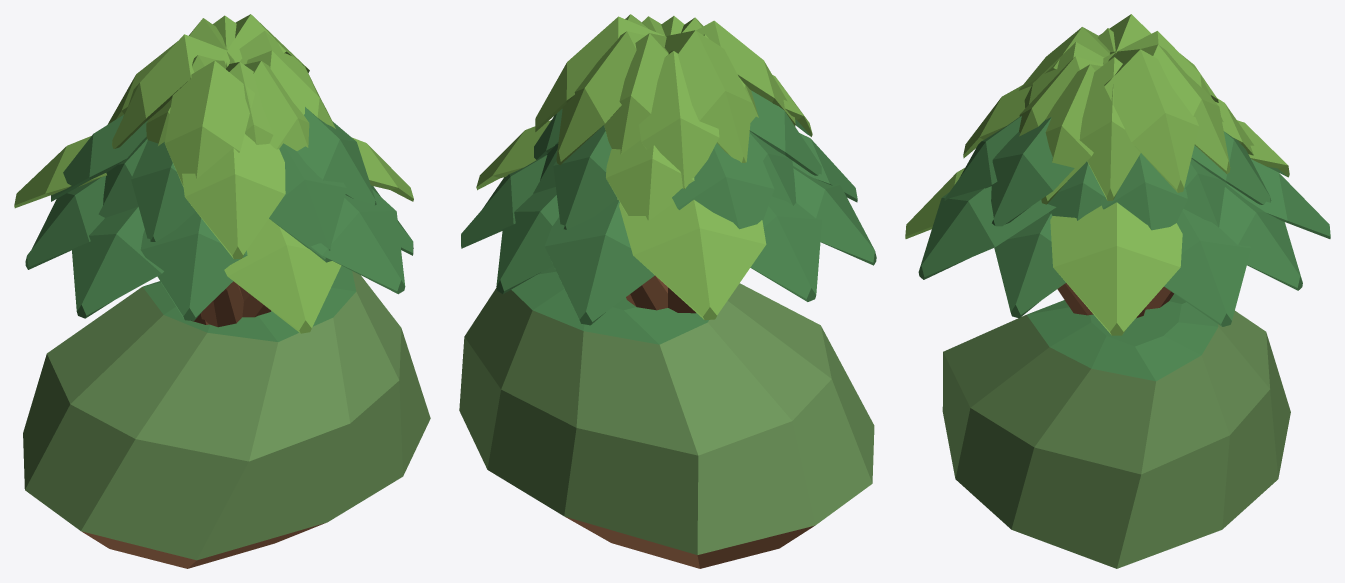
Rendered from verdant-flora.glb.
3 views of the same model, side by side, from view 1: azimuth 30°, elevation 25°; view 2: azimuth 150°, elevation 25°; view 3: azimuth 270°, elevation 25° (orthographic).
Parts seen in each view (by area): view 1: stone, feature; view 2: stone, feature; view 3: feature, stone.
Boxes of the visible parts, x1,y1,x2,y2 form: stone: [23, 265, 430, 568]; feature: [14, 14, 413, 333]; stone: [459, 266, 874, 568]; feature: [461, 14, 876, 325]; feature: [905, 14, 1330, 335]; stone: [942, 294, 1290, 568].
Bounding box in the file's own units: 1.95 × 2.32 × 1.88.
